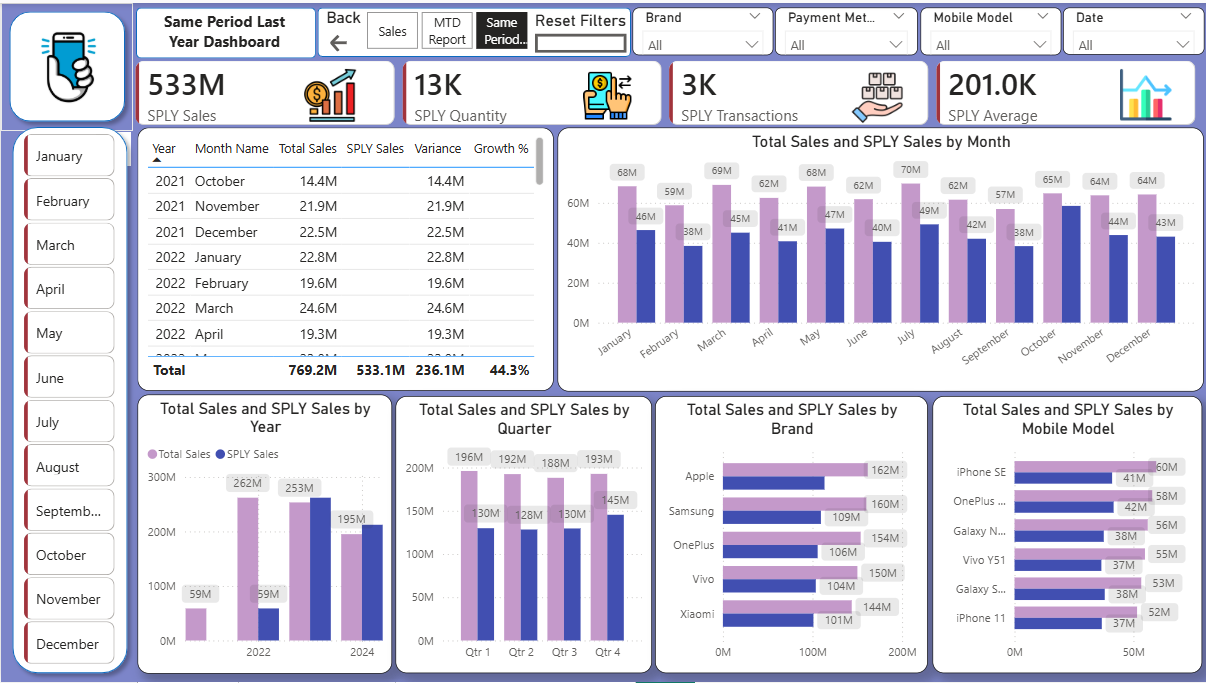

Layout of this report page (visuals, bound fields, positions):
{"tool":"powerbi","page":{"name":"Same Period Last Year","canvas":[1280,720],"ordinal":2},"visuals":[{"type":"cardVisual","fields":{"Data":["Sheet1.SPLY Sales","Sheet1.SPLY Quantity","Sheet1.SPLY Transactions","Sheet1.SPLY Average"]},"box":[130,49.3,1150,108.2],"z":0},{"type":"shape","box":[0,0,140.6,134.7],"z":1000},{"type":"image","box":[0,19.1,143.2,97],"z":2000},{"type":"shape","box":[3.8,122.8,139.8,597.2],"z":3000},{"type":"advancedSlicerVisual","fields":{"Values":["Calendar.Month Name"]},"box":[19.1,133.6,106.6,577.4],"z":4000},{"type":"shape","box":[143.2,4.8,190.9,54.1],"z":5000},{"type":"shape","box":[335.6,4.8,332.4,52.5],"z":6000},{"type":"textbox","box":[165.4,3.2,143.2,58.9],"z":7000},{"type":"slicer","fields":{"Values":["Sheet1.Payment Method"]},"box":[820.8,4.8,151.1,50.9],"z":8000},{"type":"slicer","fields":{"Values":["Sheet1.Mobile Model"]},"box":[975,4.8,149.5,50.9],"z":9000},{"type":"image","box":[320.8,57.5,55.6,81.6],"z":10000},{"type":"image","box":[1187,56.6,54.7,80],"z":11000},{"type":"image","box":[901.9,60.5,54.7,80],"z":12000},{"type":"image","box":[615,56.6,54.7,82],"z":13000},{"type":"slicer","fields":{"Values":["Sheet1.Brand"]},"box":[669.6,4.8,149.5,50.9],"z":14000},{"type":"clusteredColumnChart","fields":{"Category":["Calendar.Year"],"Y":["Sheet1.Total Sales","Sheet1.SPLY Sales"]},"box":[144.7,415.1,270,295.9],"z":15000},{"type":"tableEx","fields":{"Values":["Calendar.Year","Calendar.Month Name","Sheet1.Total Sales","Sheet1.SPLY Sales","Sheet1.Variance","Sheet1.Growth %"]},"box":[144.5,132.8,441.2,279.2],"z":16000},{"type":"clusteredColumnChart","fields":{"Category":["Calendar.Date.Variation.Date Hierarchy.Quarter"],"Y":["Sheet1.Total Sales","Sheet1.SPLY Sales"]},"box":[418.3,416.7,272,294.3],"z":17000},{"type":"clusteredColumnChart","fields":{"Y":["Sheet1.Total Sales","Sheet1.SPLY Sales"],"Category":["Calendar.Date.Variation.Date Hierarchy.Month"]},"box":[590.1,132,685.6,279.9],"z":18000},{"type":"clusteredBarChart","fields":{"Category":["Sheet1.Brand"],"Y":["Sheet1.Total Sales","Sheet1.SPLY Sales"]},"box":[693.5,416.7,289.5,294.3],"z":19000},{"type":"clusteredBarChart","fields":{"Category":["Sheet1.Mobile Model"],"Y":["Sheet1.Total Sales","Sheet1.SPLY Sales"]},"box":[987.8,416.7,286.3,294.3],"z":20000},{"type":"slicer","fields":{"Values":["Calendar.Date.Variation.Date Hierarchy.Year","Calendar.Date.Variation.Date Hierarchy.Quarter","Calendar.Date.Variation.Date Hierarchy.Month","Calendar.Date.Variation.Date Hierarchy.Day"]},"box":[1126.2,4.8,150,50],"z":21000},{"type":"actionButton","title":"Back","box":[345.2,4.8,42.9,50.9],"z":22000},{"type":"pageNavigator","box":[388.1,9.5,170.2,39.8],"z":23000},{"type":"actionButton","title":"Reset Filters","box":[566.3,8,97,44.5],"z":24000}]}

Visuals, with their boxes in screenshot pixels (x1, y1, x2, y2), scaled from the page's 1280x720 canvas onto the 1206x683 screenshot:
cardVisual - Sheet1.SPLY Sales x Sheet1.SPLY Quantity: <box>122,47,1205,149</box>
shape: <box>0,0,132,128</box>
image: <box>0,18,135,110</box>
shape: <box>4,116,135,682</box>
advancedSlicerVisual - Calendar.Month Name: <box>18,127,118,674</box>
shape: <box>135,5,315,56</box>
shape: <box>316,5,629,54</box>
textbox: <box>156,3,291,59</box>
slicer - Sheet1.Payment Method: <box>773,5,916,53</box>
slicer - Sheet1.Mobile Model: <box>919,5,1059,53</box>
image: <box>302,55,355,132</box>
image: <box>1118,54,1170,130</box>
image: <box>850,57,901,133</box>
image: <box>579,54,631,131</box>
slicer - Sheet1.Brand: <box>631,5,772,53</box>
clusteredColumnChart - Calendar.Year x Sheet1.Total Sales: <box>136,394,391,674</box>
tableEx - Calendar.Year x Calendar.Month Name: <box>136,126,552,391</box>
clusteredColumnChart - Calendar.Date.Variation.Date Hierarchy.Quarter x Sheet1.Total Sales: <box>394,395,650,674</box>
clusteredColumnChart - Sheet1.Total Sales x Sheet1.SPLY Sales: <box>556,125,1202,391</box>
clusteredBarChart - Sheet1.Brand x Sheet1.Total Sales: <box>653,395,926,674</box>
clusteredBarChart - Sheet1.Mobile Model x Sheet1.Total Sales: <box>931,395,1200,674</box>
slicer - Calendar.Date.Variation.Date Hierarchy.Year x Calendar.Date.Variation.Date Hierarchy.Quarter: <box>1061,5,1202,52</box>
"Back" actionButton: <box>325,5,366,53</box>
pageNavigator: <box>366,9,526,47</box>
"Reset Filters" actionButton: <box>534,8,625,50</box>
